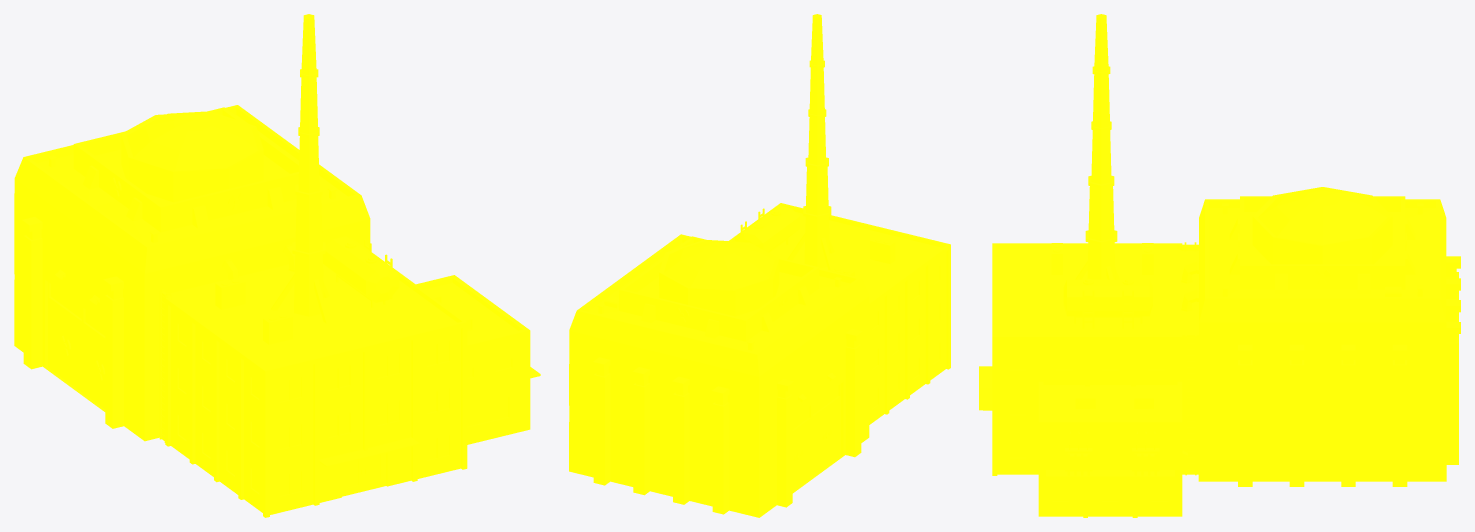
Rendered from nuclear-power-plant.glb.
3 renders of one model, left to right at view 1: azimuth 30°, elevation 25°; view 2: azimuth 150°, elevation 25°; view 3: azimuth 270°, elevation 25°, orthographic. The views are drawn at different scales.
Parts seen in each view (by area): view 1: nuclear-power-plant; view 2: nuclear-power-plant; view 3: nuclear-power-plant.
Part boxes in pixels (x1,y1,x2,y2): nuclear-power-plant: (14, 14, 540, 517); nuclear-power-plant: (569, 14, 950, 517); nuclear-power-plant: (979, 14, 1460, 517).
Size of the model in its own units: 21.82 by 27.59 by 29.17.
Materials: 1 (1 with a texture image).
